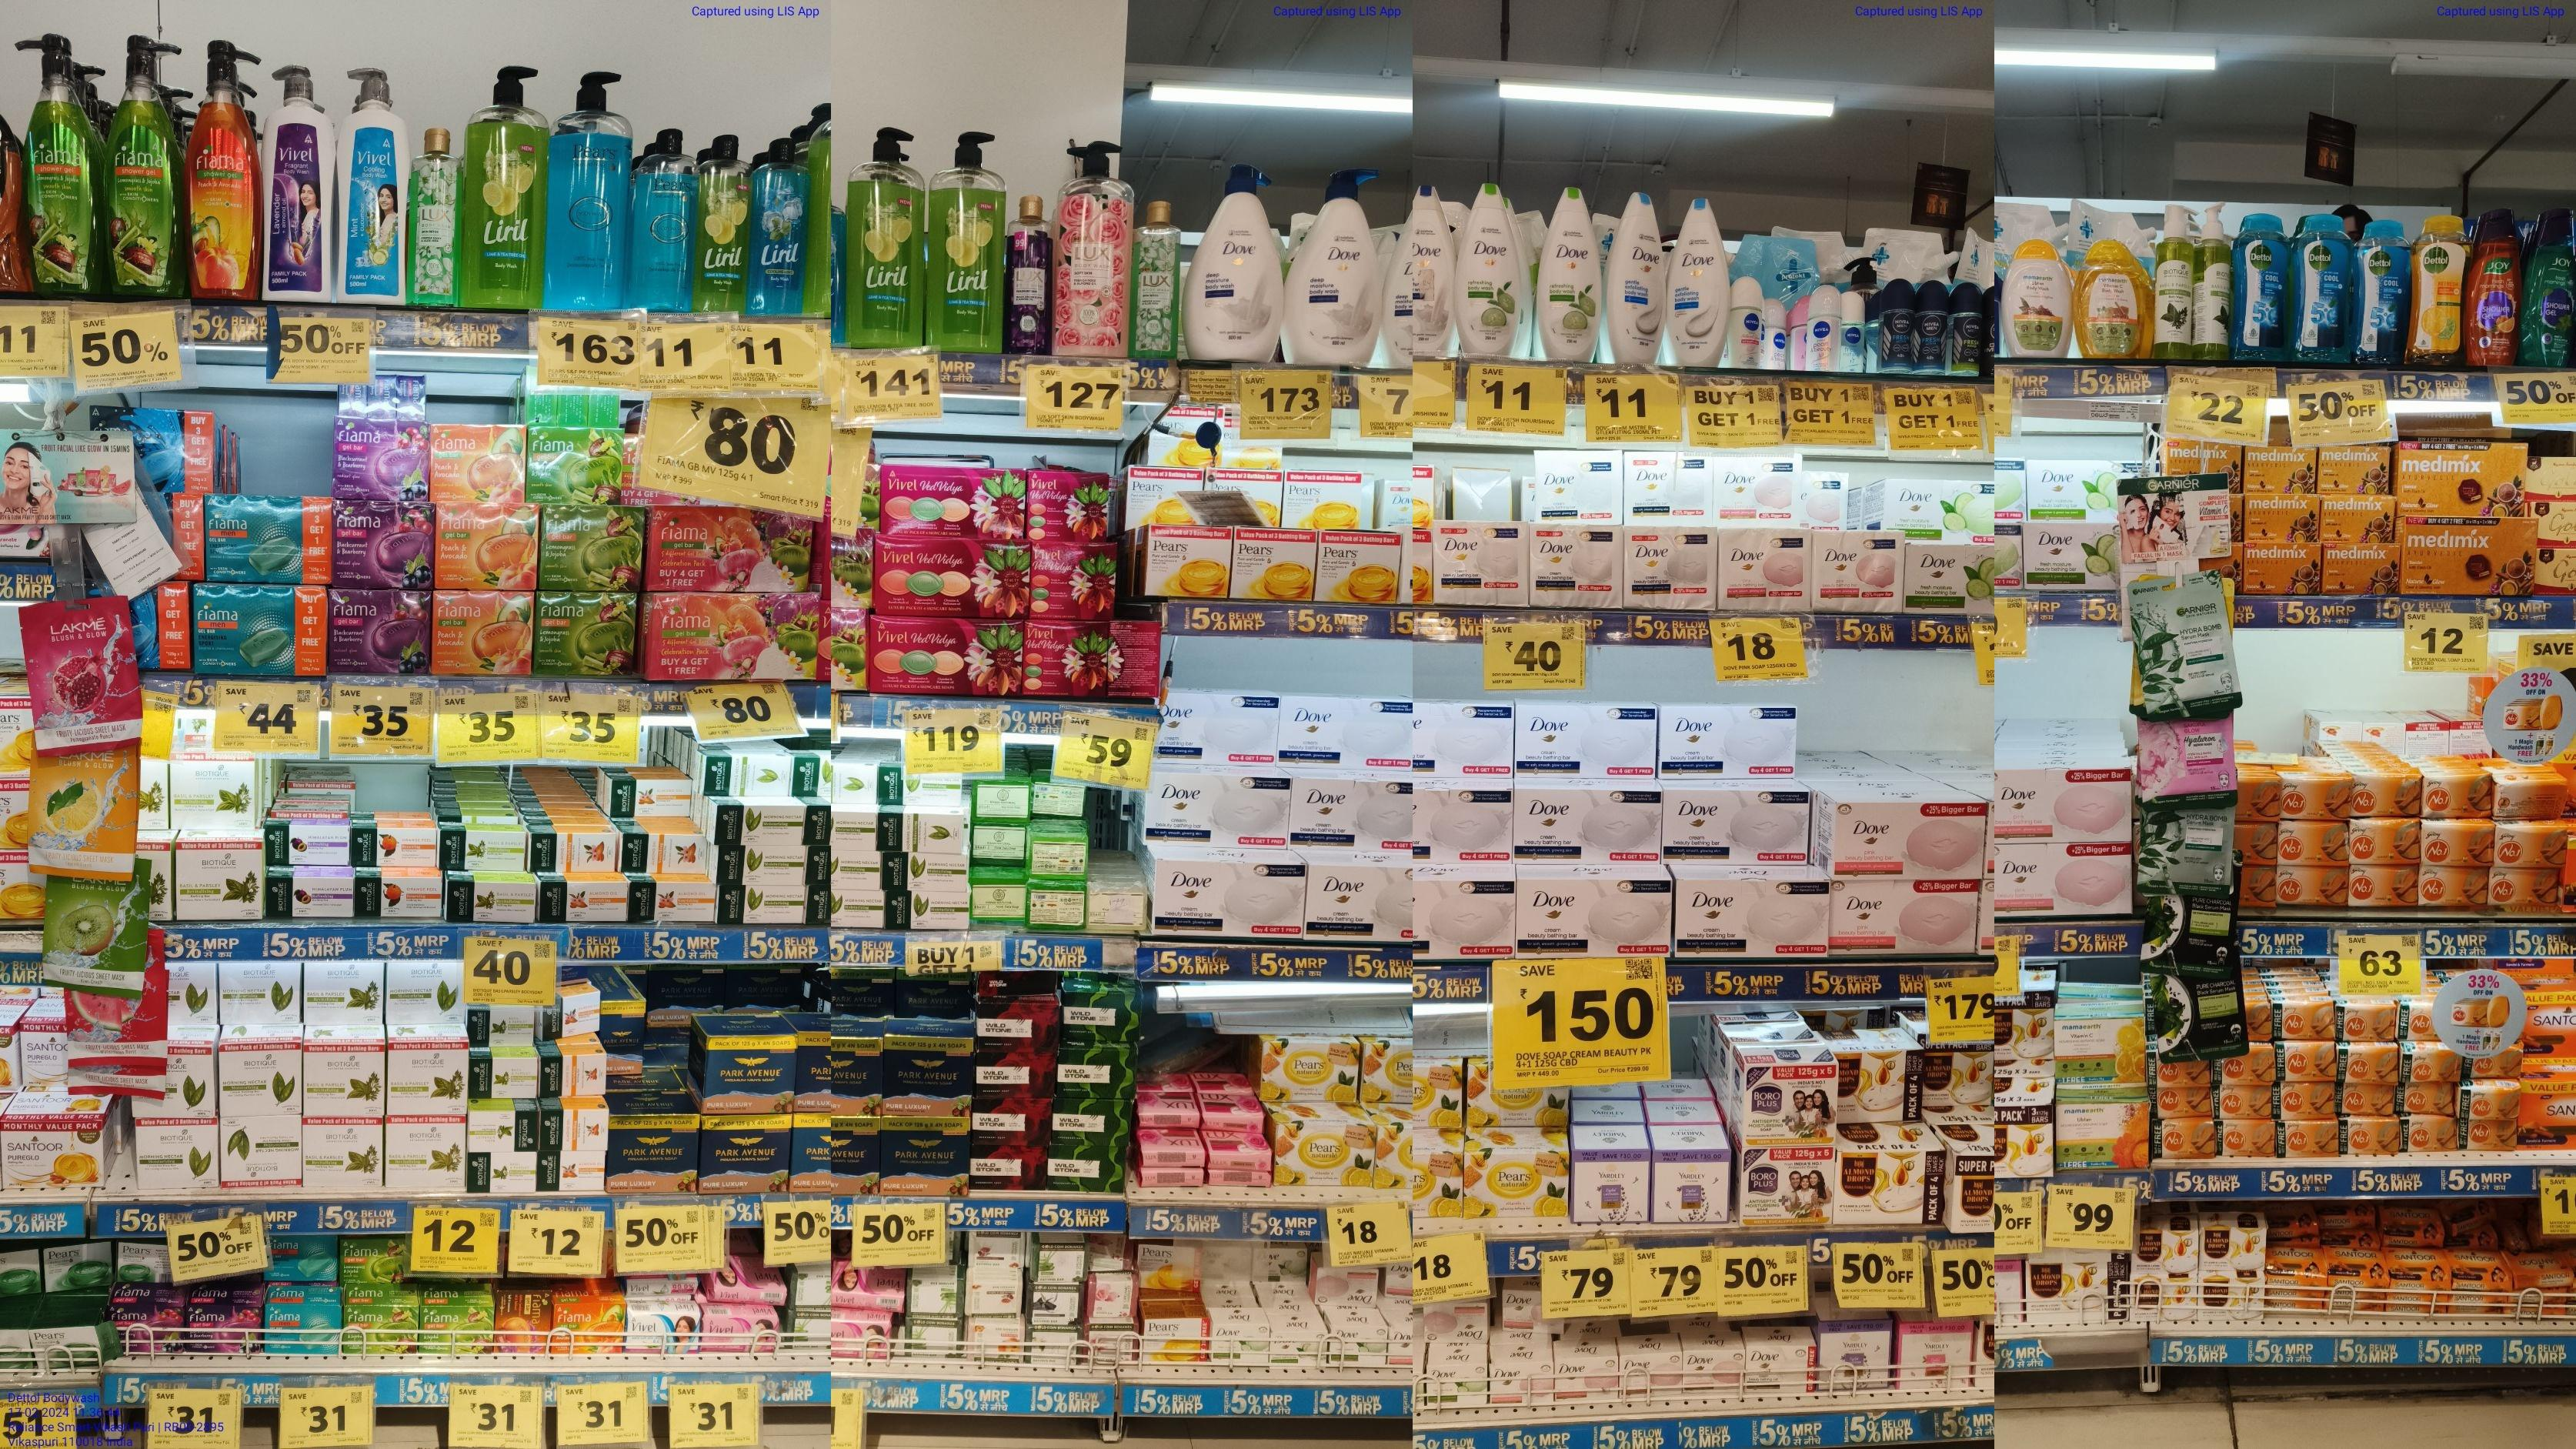Dettol_Bodywash_Cool: (2296, 214, 2353, 363), (2235, 214, 2291, 359), (2358, 219, 2408, 363)
Dettol_Bodywash_Refresh: (2410, 216, 2473, 364)
Dove_Gentle_Exfoliating_Body_Wash_250ML: (1668, 196, 1729, 368), (1606, 191, 1665, 364)
Dove_Refreshing_Body_Wash_250ML: (1537, 188, 1601, 361), (1456, 184, 1520, 354)
Joy_Shower_Gel_Mandarin_and_Lemongrass_250ML: (2475, 207, 2521, 363)
Joy_Shower_Gel_Mint_and_Eucalyptus_250ML: (2523, 209, 2576, 366)
Liril_Cooling_Mint_Body_Wash_250ML: (755, 138, 812, 315)
Liril_Lime_and_Tea_Tree_Oil_Body_Wash_250ML: (701, 133, 752, 317)
Lux_Black_Orchid_Scent_and_Juniper_Oil_Body_Wash_245ML: (1007, 193, 1054, 352)
Lux_Body_Wash_Skin_Detox_Freesia_Scent_and_Alove_Vera_245ML: (405, 131, 456, 306), (1134, 198, 1180, 357)
Pears_Pure_Glycerin_and_Mint_Extracts_Body_Wash_250ML: (637, 129, 697, 311)
